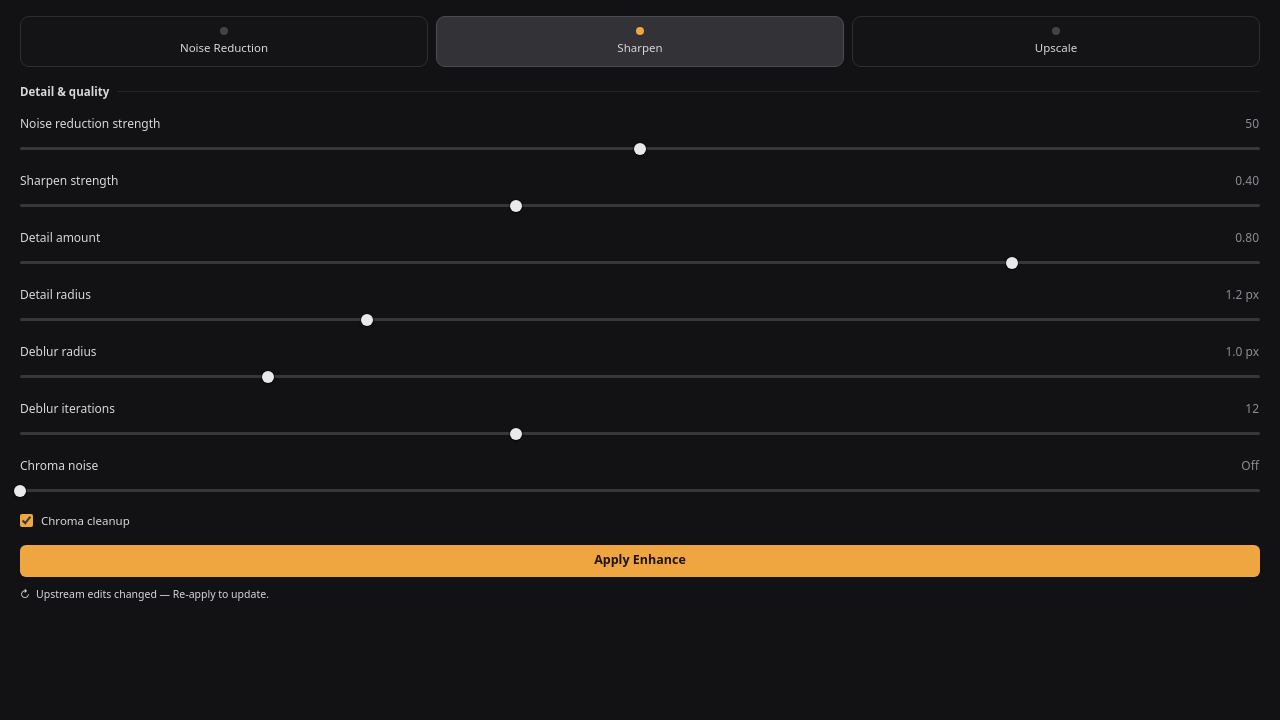
Test: EnhanceModuleComponent — staleness affordance (P7 item 3) › clears the hint after a re-apply (markEnhanceApplied re-snapshots; service reports fresh)
The width and height of the screenshot is (1280, 720).
Expected: the element with test id "enhance-stale-hint" is shown, [20,587,269,601]
What coordinates should you click on to do the following:
click the button "Apply Enhance"
I would click on:
 (640, 561)
Its box is [20,545,1260,577].
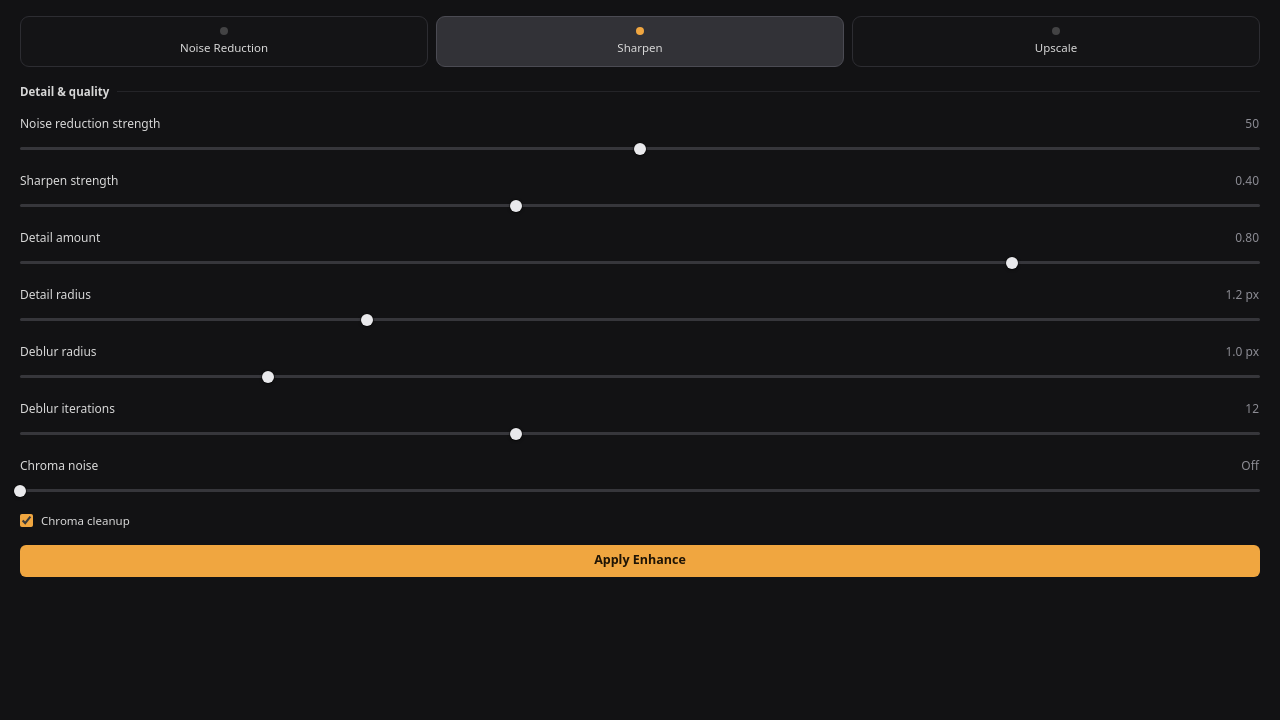
Expected: the element with test id "enhance-stale-hint" is gone
